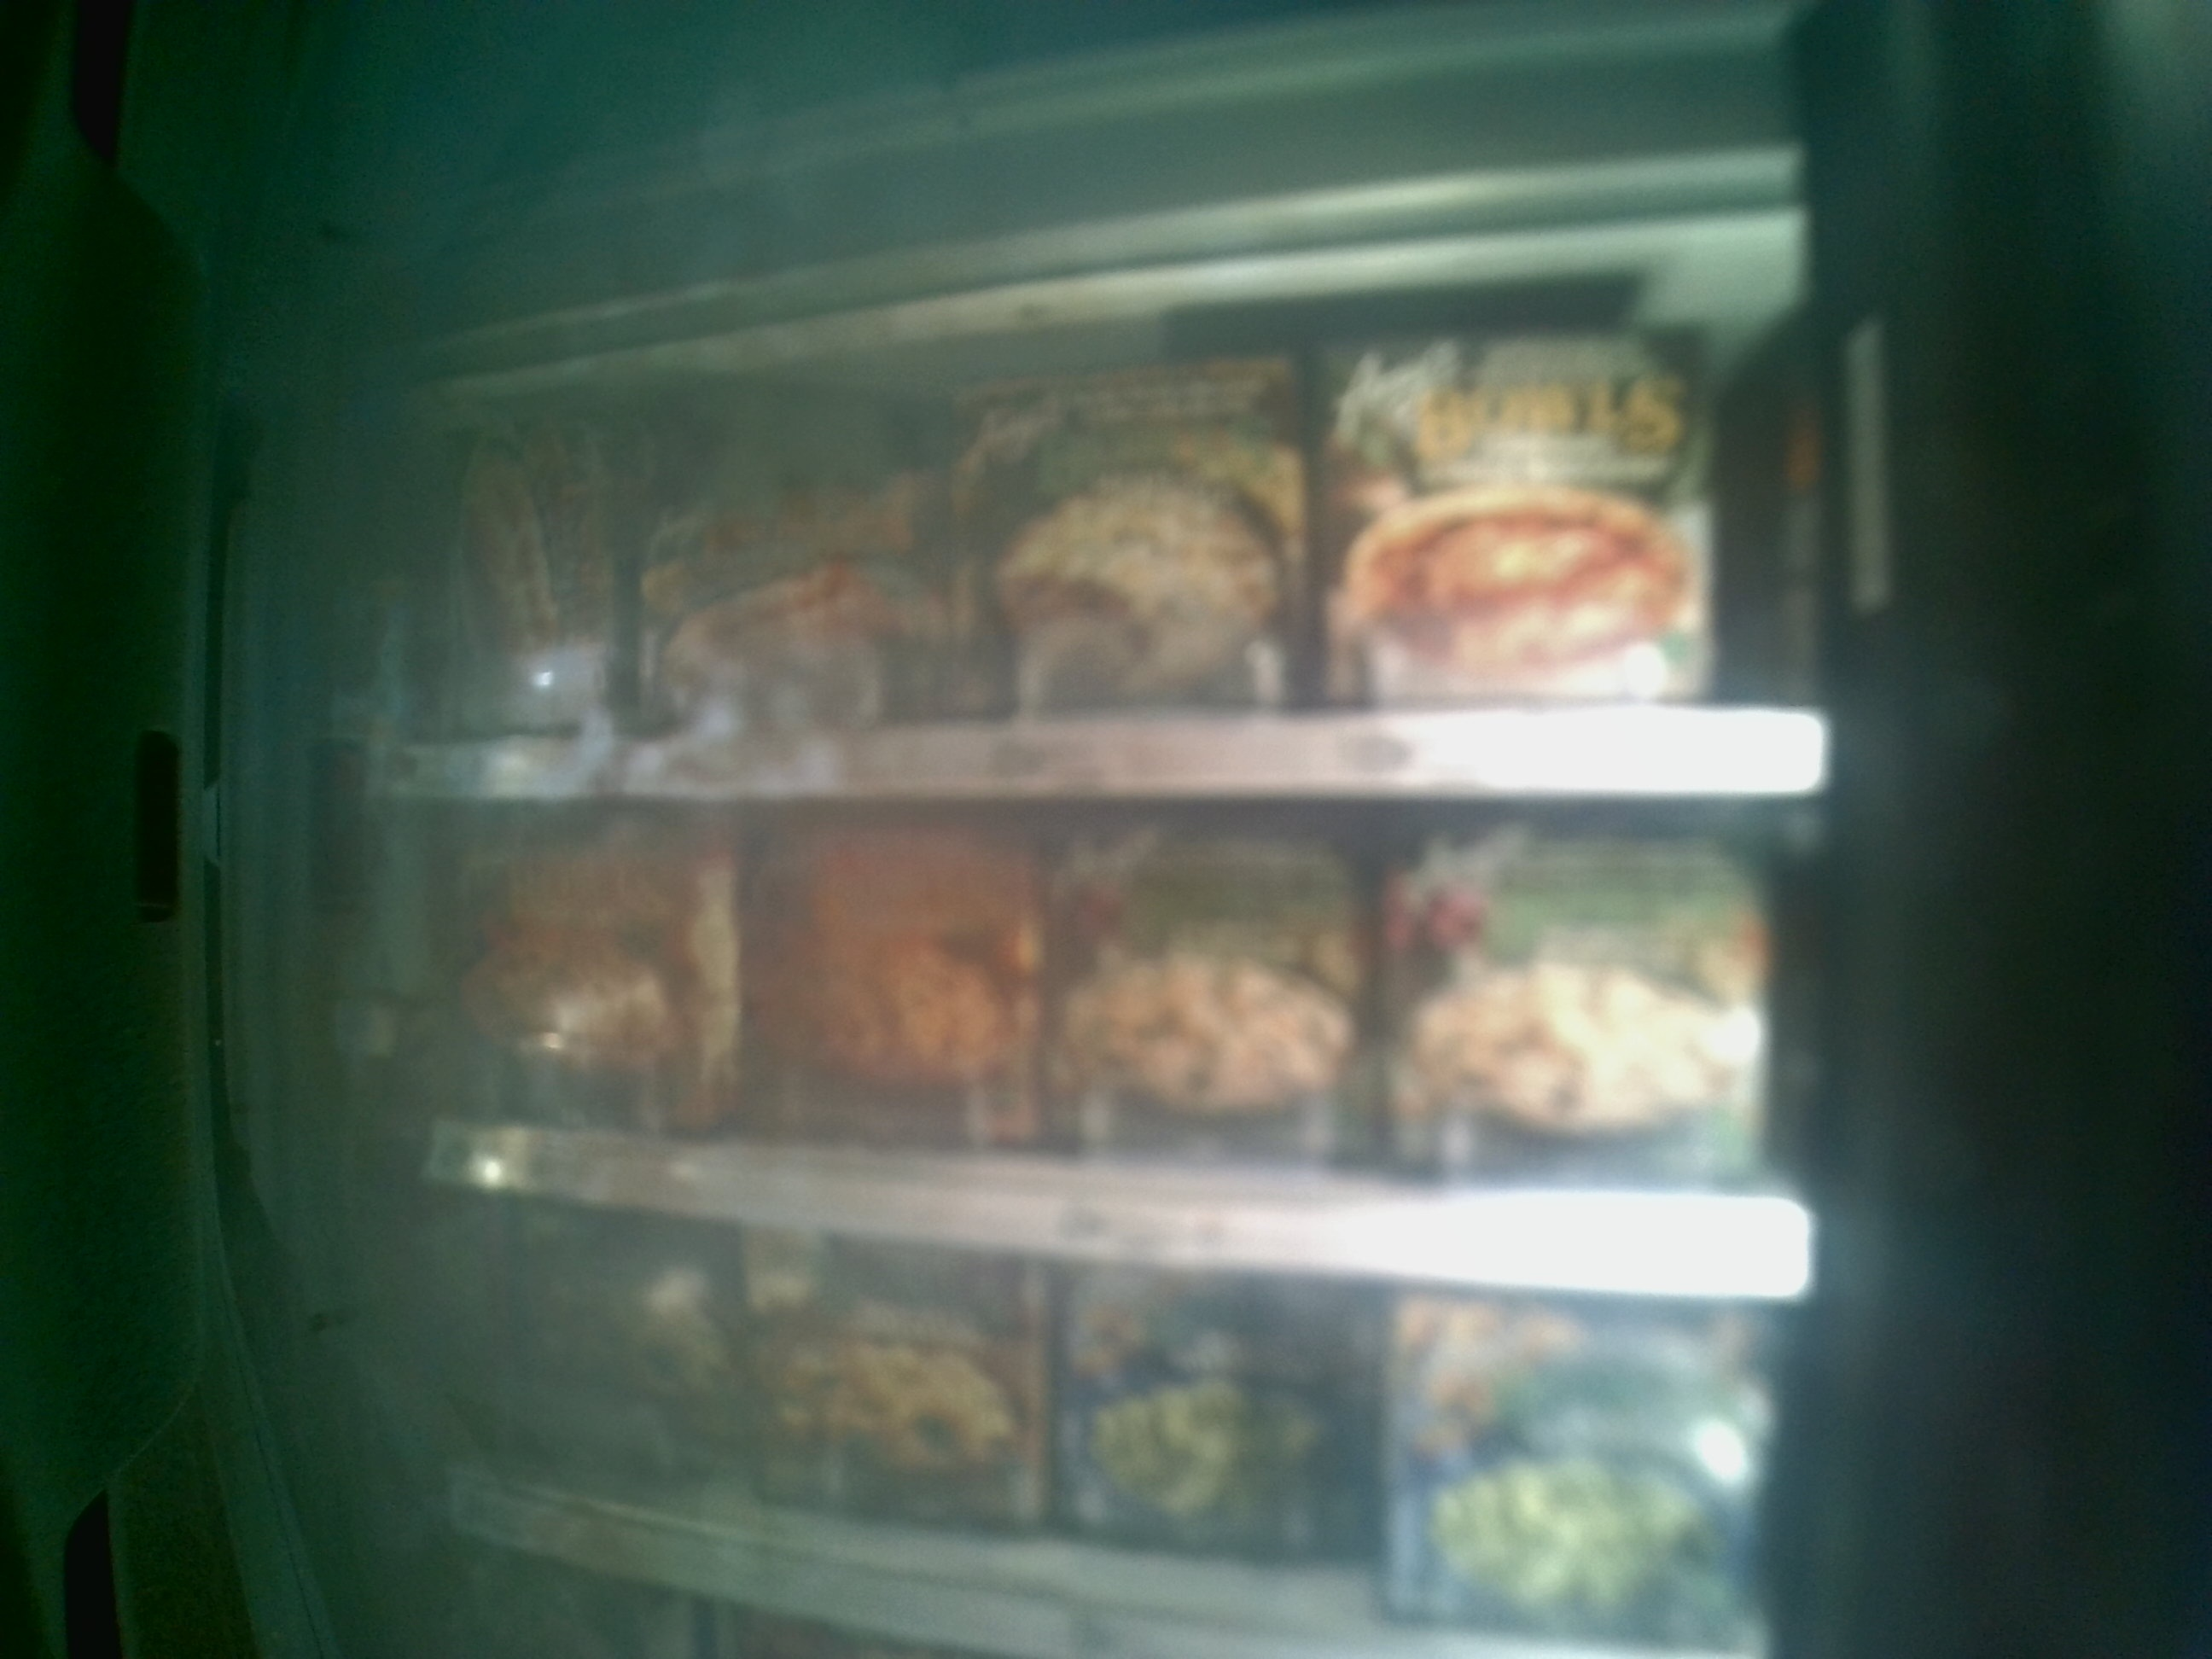frozen-food-shelf: (334, 819, 1827, 1300), (336, 403, 1838, 817)
